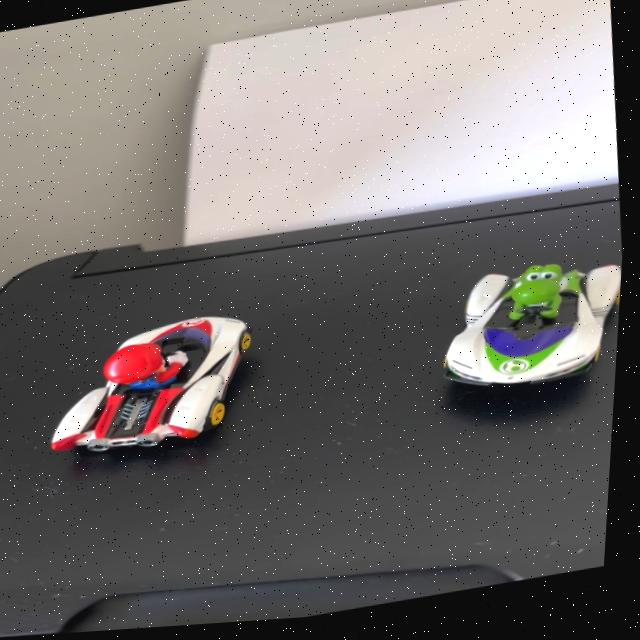mario: (23, 297, 284, 478)
yoshi: (423, 244, 627, 417)
